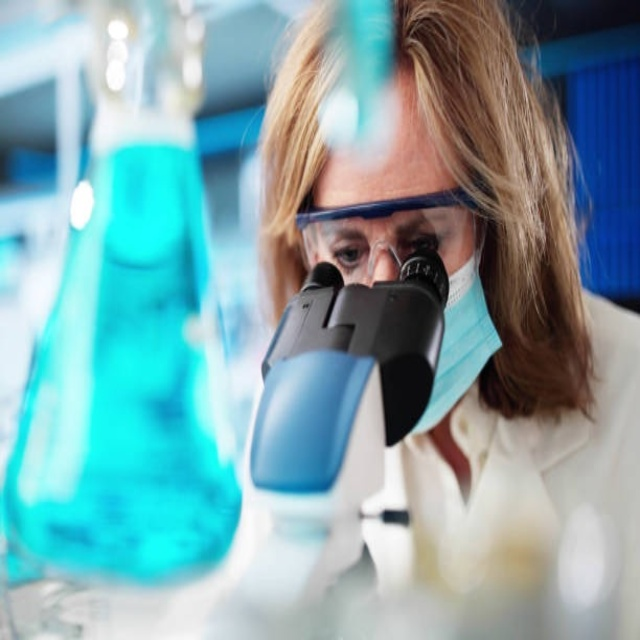Gafas: (298, 199, 481, 288)
Mascara: (400, 233, 504, 442)
